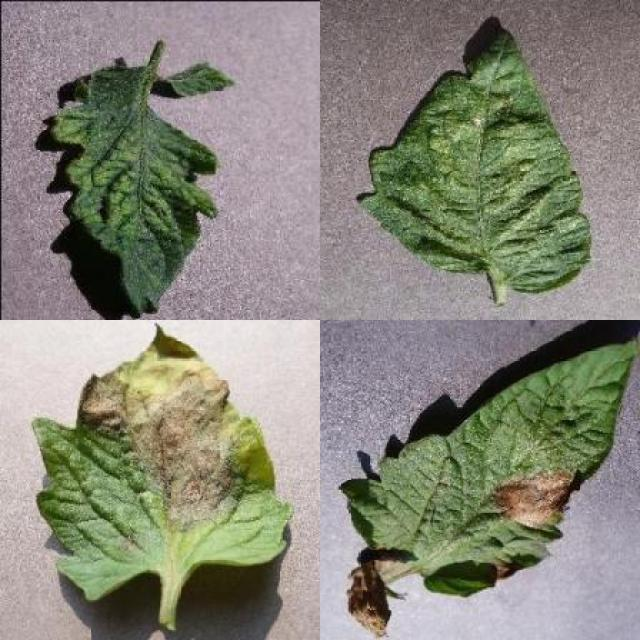Late Blight: (337, 335, 640, 640), (33, 325, 296, 602)
Mosaic Virus: (47, 59, 233, 315)
Spider Mites: (360, 25, 593, 295)
